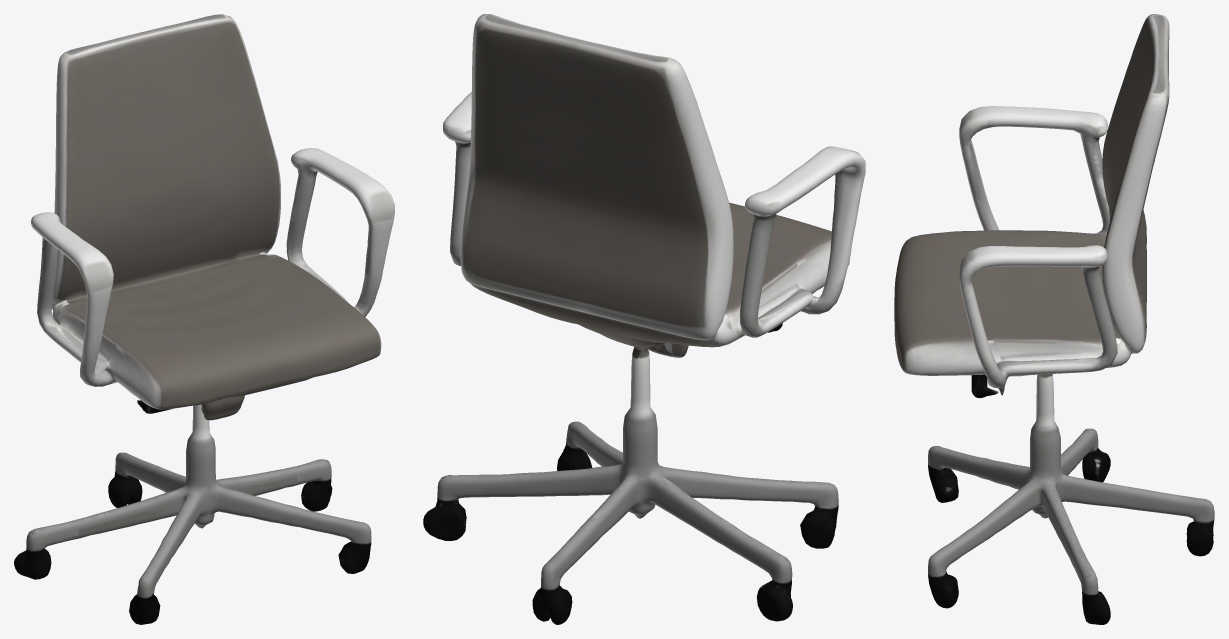
File: chair-task2-1k.glb
3 renders of one model, left to right at view 1: azimuth 30°, elevation 25°; view 2: azimuth 150°, elevation 25°; view 3: azimuth 270°, elevation 25°, orthographic. The views are drawn at different scales.
Parts seen in each view (by area): view 1: Object_2; view 2: Object_2; view 3: Object_2.
Boxes of the visible parts, <box> form: Object_2: <box>14,14,394,624</box>; Object_2: <box>423,14,865,624</box>; Object_2: <box>894,14,1214,624</box>.
Bounding box in the file's own units: 0.7326 × 1.08 × 0.6284.
Materials: 1 (1 with a texture image).
